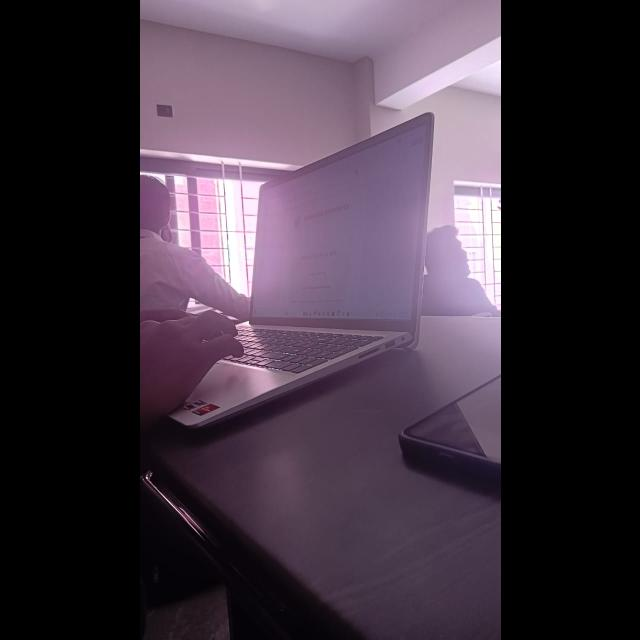laptop: (230, 112, 448, 360)
